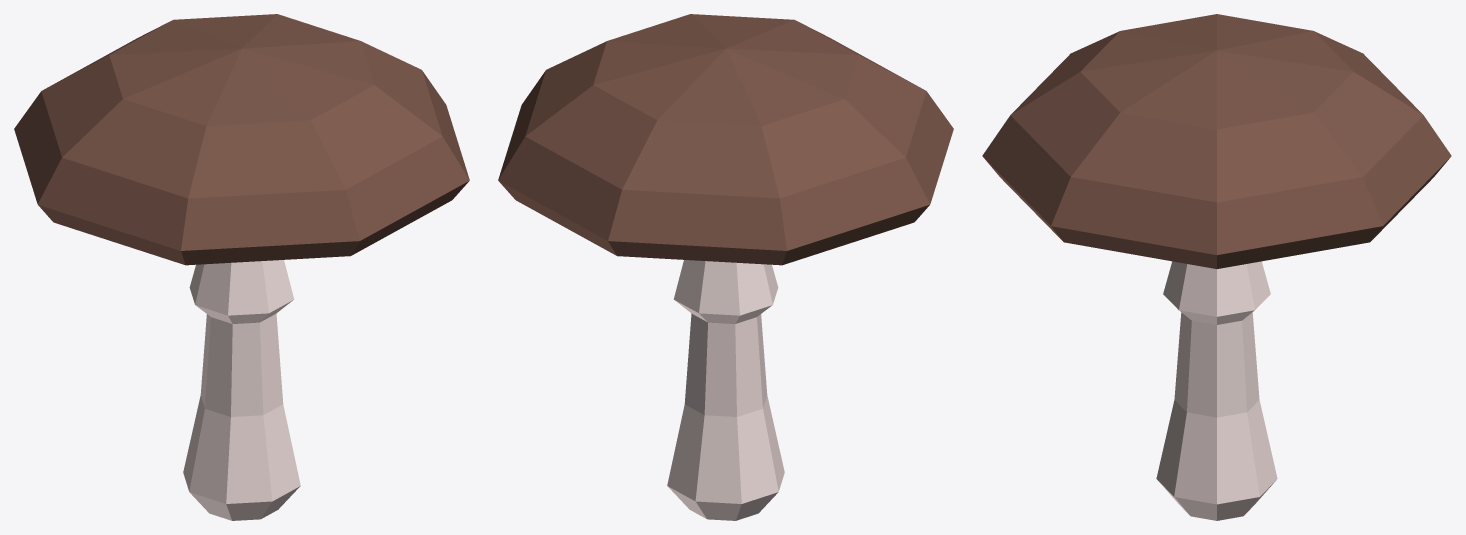
Rendered from mushroom_013.fbx.
3 views of the same model, side by side, from view 1: azimuth 30°, elevation 25°; view 2: azimuth 150°, elevation 25°; view 3: azimuth 270°, elevation 25° (orthographic).
Parts seen in each view (by area): view 1: mushroom.013; view 2: mushroom.013; view 3: mushroom.013.
Part boxes in pixels (left/top/right/bottom): mushroom.013: left=14, top=14, right=469, bottom=520; mushroom.013: left=498, top=14, right=953, bottom=520; mushroom.013: left=982, top=14, right=1451, bottom=520.
Size of the model in its own units: 659 by 704 by 659.
Materials: 1 (1 with a texture image).
